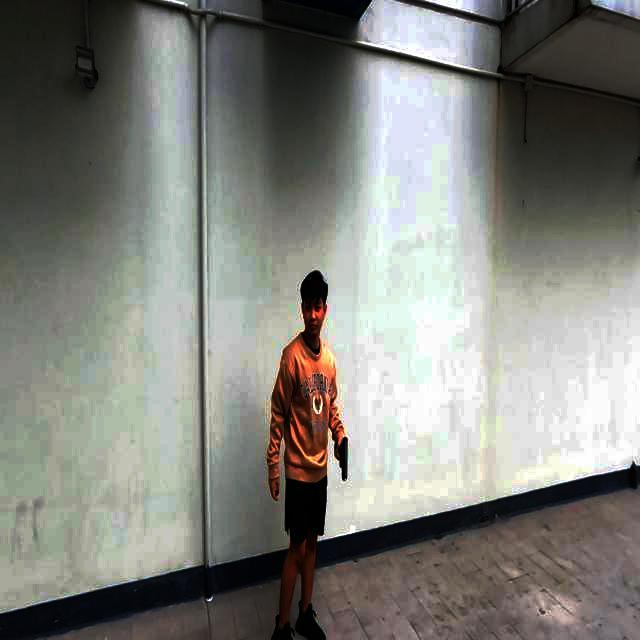Gun: (334, 428, 364, 504)
